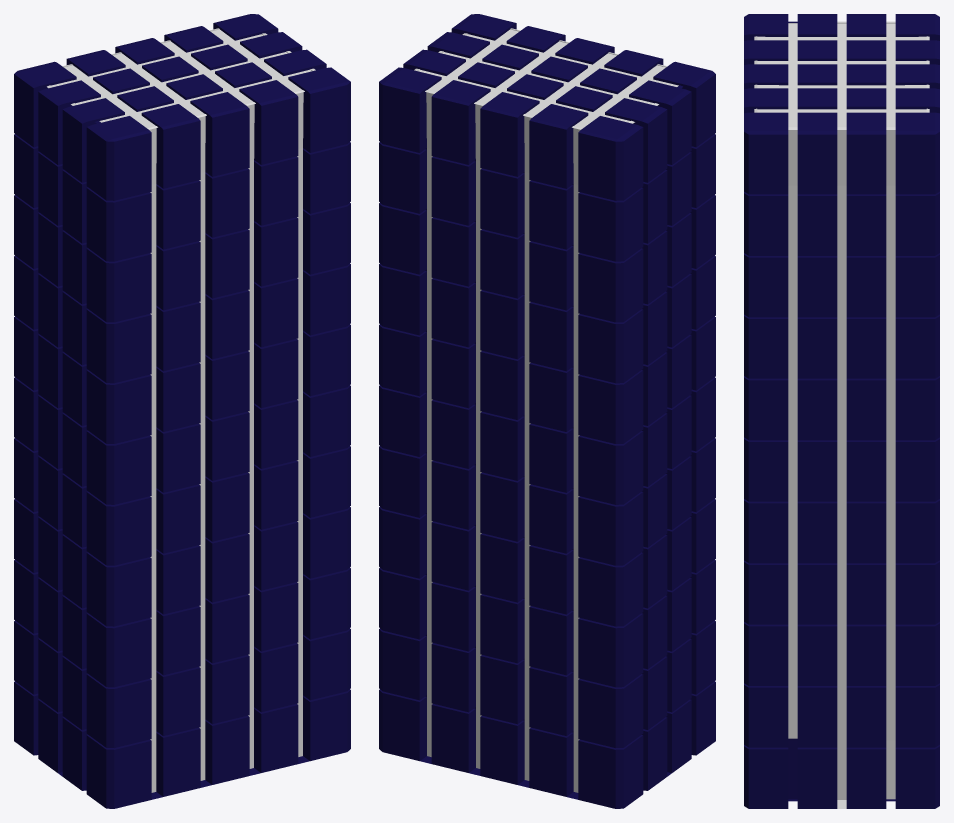
File: Buliding2.fbx
The picture shows the model from 3 angles, left to right: view 1: azimuth 30°, elevation 25°; view 2: azimuth 150°, elevation 25°; view 3: azimuth 270°, elevation 25°; orthographic projection.
Visible parts, largest first — view 1: Cube.006; view 2: Cube.006; view 3: Cube.006.
Part boxes in pixels (x1,y1,x2,y2): Cube.006: (14,14,350,808); Cube.006: (379,14,715,808); Cube.006: (744,14,939,808).
Bounding box in the file's own units: 3425 × 8951 × 2349.
